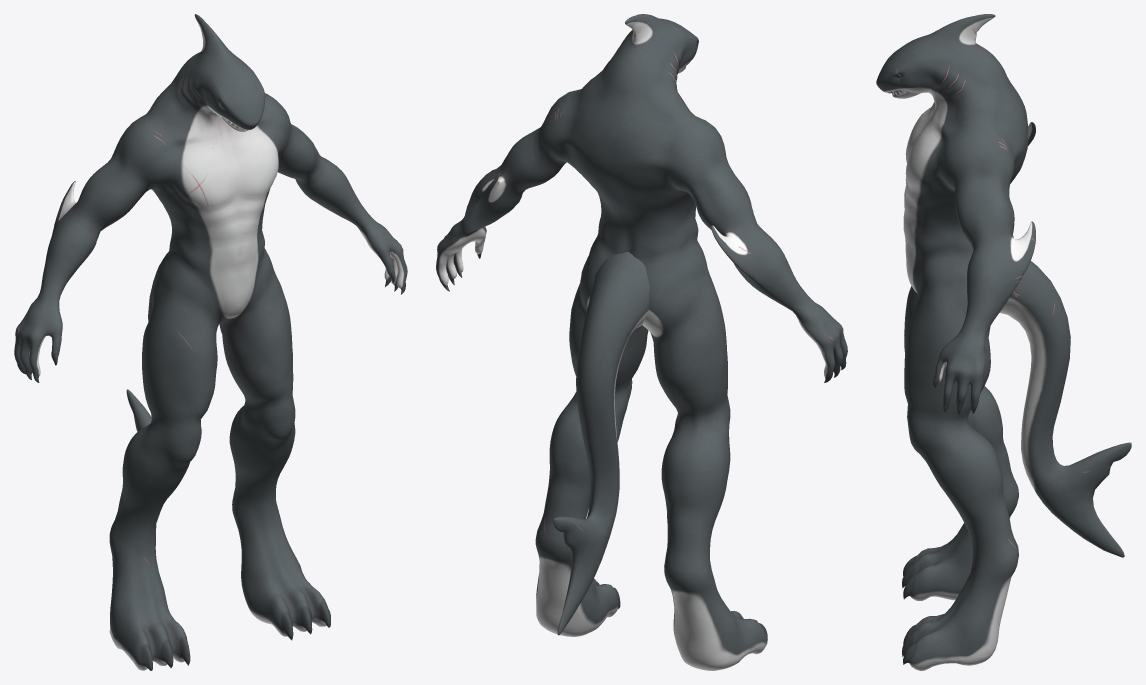
File: sr-shark.gltf
3 views of the same model, side by side, from view 1: azimuth 30°, elevation 25°; view 2: azimuth 150°, elevation 25°; view 3: azimuth 270°, elevation 25° (orthographic). The views are drawn at different scales.
Parts seen in each view (by area): view 1: defaultobject; view 2: defaultobject; view 3: defaultobject.
Part boxes in pixels (x1,y1,x2,y2): defaultobject: (14,14,407,670); defaultobject: (436,14,847,670); defaultobject: (876,14,1131,670).
Bounding box in the file's own units: 1.31 × 2 × 0.7556.
Materials: 5 (5 with a texture image).
